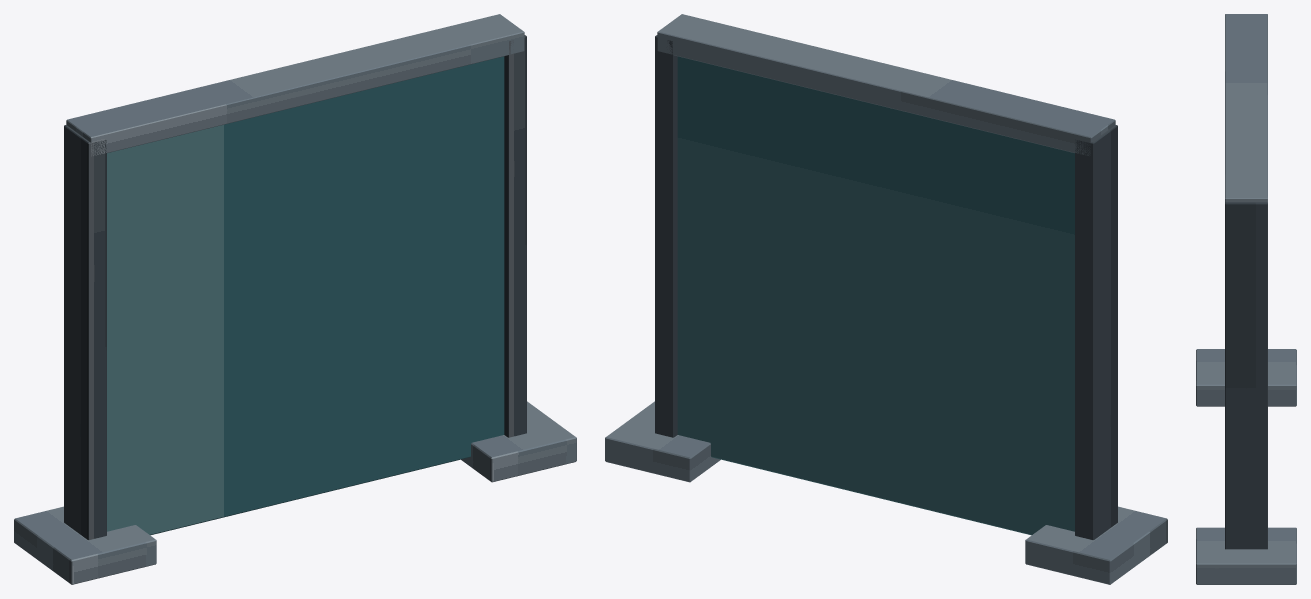
The model's file is office_cubicle_partition.glb.
3 renders of one model, left to right at view 1: azimuth 30°, elevation 25°; view 2: azimuth 150°, elevation 25°; view 3: azimuth 270°, elevation 25°, orthographic. The views are drawn at different scales.
Parts seen in each view (by area): view 1: PartitionPanel, TopRail, FramePost, FramePost.001, Foot, Foot.001; view 2: PartitionPanel, TopRail, FramePost, FramePost.001, Foot, Foot.001; view 3: FramePost.001, TopRail, Foot.001, Foot.
Boxes of the visible parts, x1,y1,x2,y2 form: PartitionPanel: (107, 56, 504, 535); TopRail: (66, 14, 524, 156); FramePost: (64, 125, 106, 539); FramePost.001: (504, 35, 526, 437); Foot: (14, 506, 156, 584); Foot.001: (461, 401, 576, 482); PartitionPanel: (677, 56, 1074, 535); TopRail: (657, 14, 1115, 155); FramePost: (1075, 125, 1117, 539); FramePost.001: (655, 35, 677, 437); Foot: (1025, 506, 1167, 584); Foot.001: (605, 401, 720, 482); FramePost.001: (1225, 202, 1267, 549); TopRail: (1225, 14, 1267, 202); Foot.001: (1196, 527, 1296, 584); Foot: (1196, 349, 1296, 406).
Size of the model in its own units: 2.12 by 1.72 by 0.42.
1 material, 1 textured.
